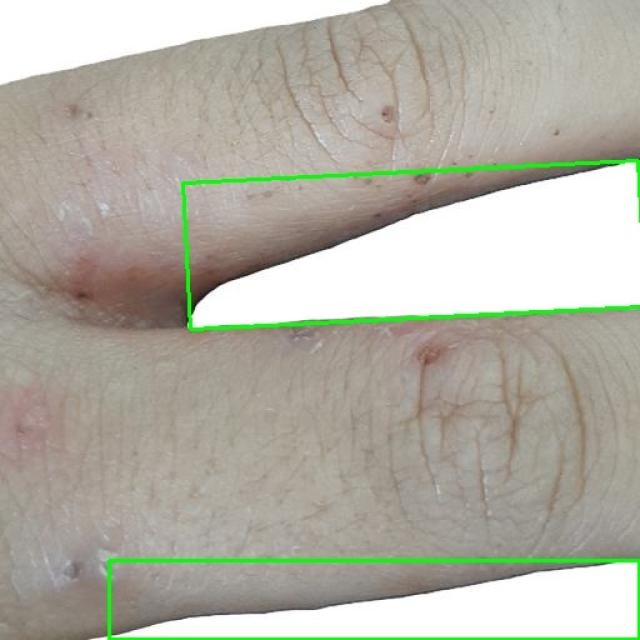Scabies: (183, 161, 640, 329), (109, 560, 639, 639)
